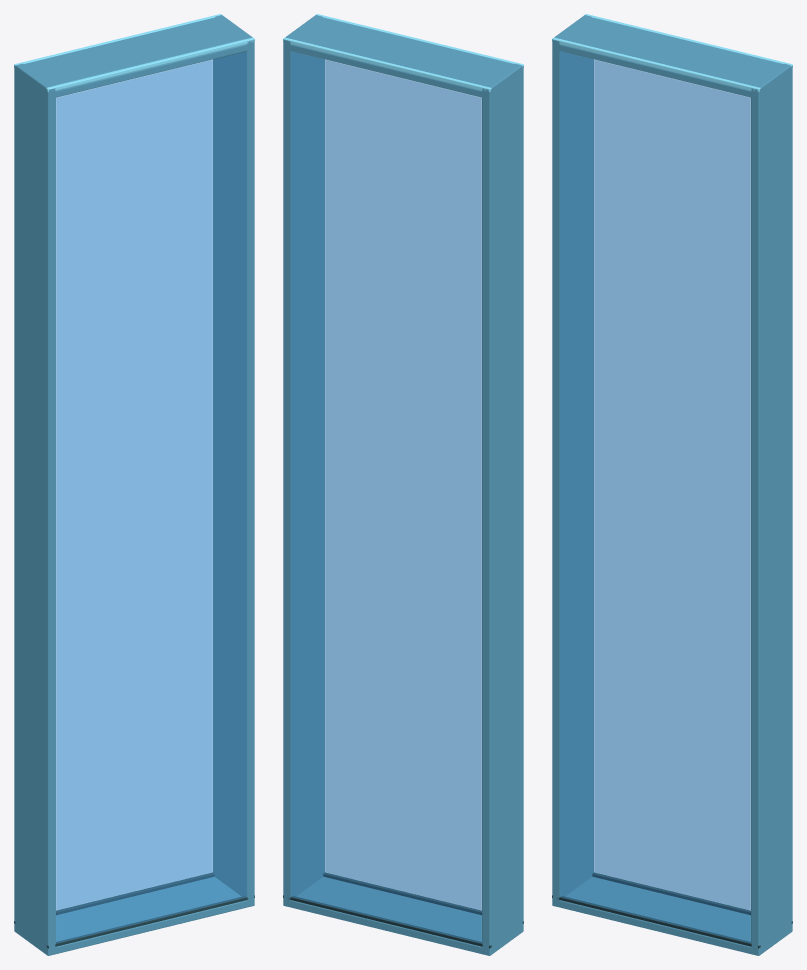
The model's file is SM_VR_Wall_TransferWestB.fbx.
The picture shows the model from 3 angles, left to right: view 1: azimuth 30°, elevation 25°; view 2: azimuth 150°, elevation 25°; view 3: azimuth 330°, elevation 25°; orthographic projection.
Parts seen in each view (by area): view 1: SM_VR_Wall_TransferWestB; view 2: SM_VR_Wall_TransferWestB; view 3: SM_VR_Wall_TransferWestB.
Boxes of the visible parts, x1,y1,x2,y2 form: SM_VR_Wall_TransferWestB: [14, 14, 254, 955]; SM_VR_Wall_TransferWestB: [283, 14, 523, 955]; SM_VR_Wall_TransferWestB: [552, 14, 792, 955].
Size of the model in its own units: 70 by 20 by 280.
